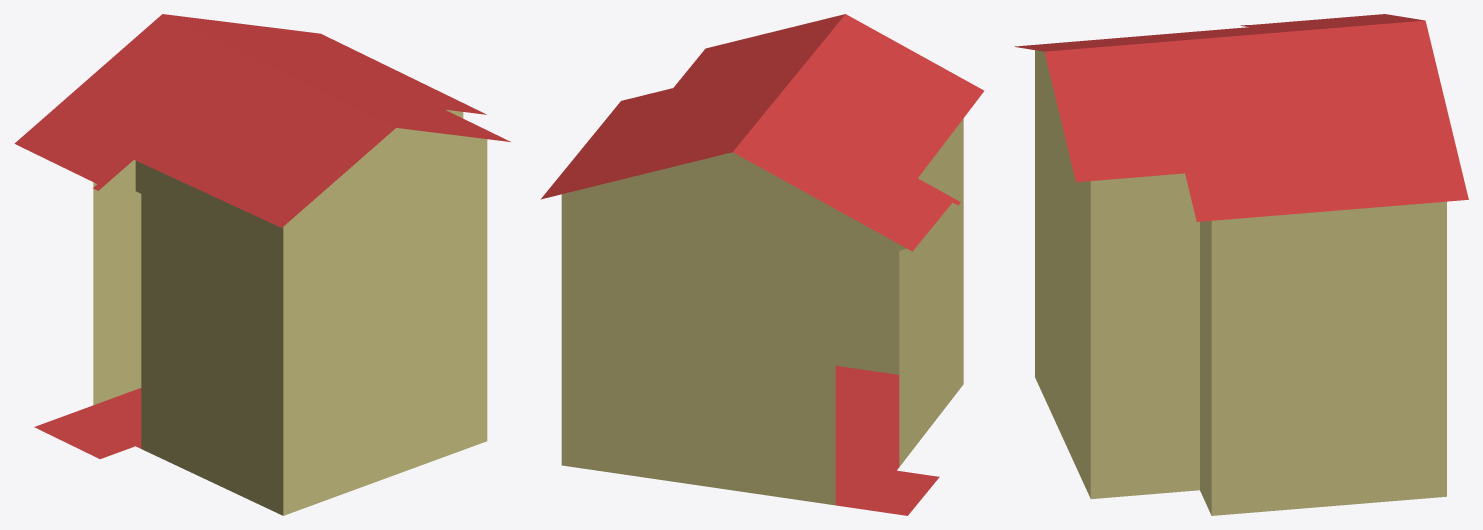
The picture shows the model from 3 angles, left to right: view 1: azimuth 30°, elevation 25°; view 2: azimuth 150°, elevation 25°; view 3: azimuth 270°, elevation 25°; orthographic projection. The views are drawn at different scales.
Size of the model in its own units: 12.97 by 12.15 by 11.41.
